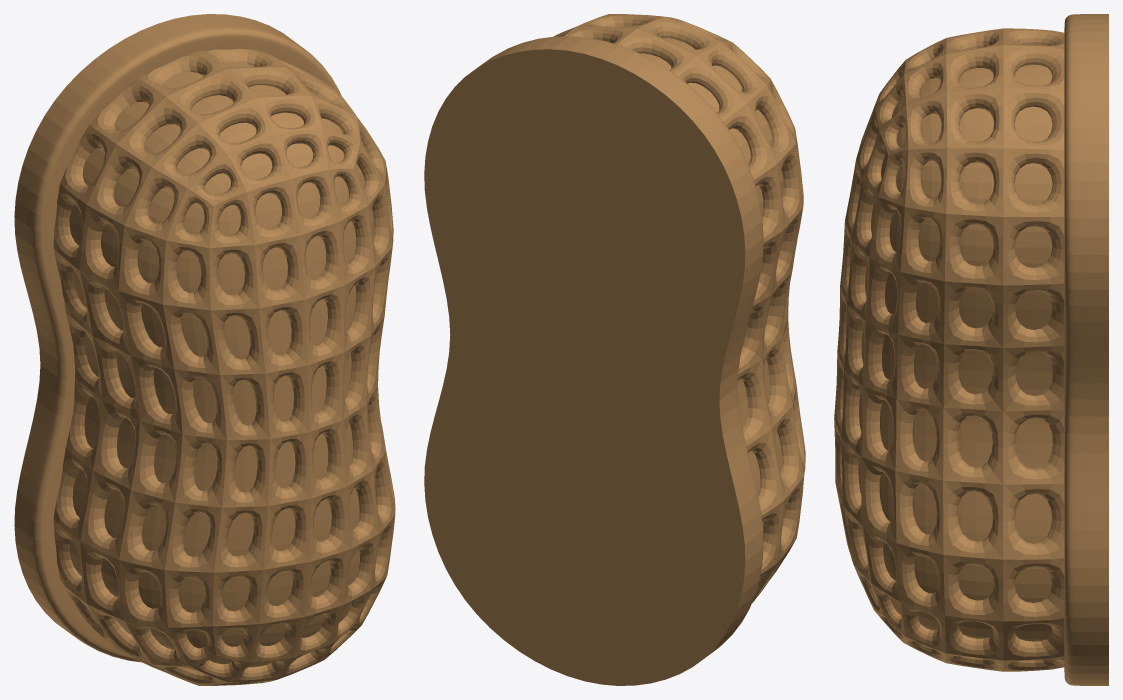
File: peanut.glb
The picture shows the model from 3 angles, left to right: view 1: azimuth 30°, elevation 25°; view 2: azimuth 150°, elevation 25°; view 3: azimuth 270°, elevation 25°; orthographic projection.
Parts seen in each view (by area): view 1: Plane.151; view 2: Plane.151; view 3: Plane.151.
Part boxes in pixels (x1=…): Plane.151: x1=14, y1=14, x2=395, y2=685; Plane.151: x1=424, y1=14, x2=805, y2=685; Plane.151: x1=834, y1=14, x2=1108, y2=685.
Size of the model in its own units: 7.99 by 14.92 by 5.85.
